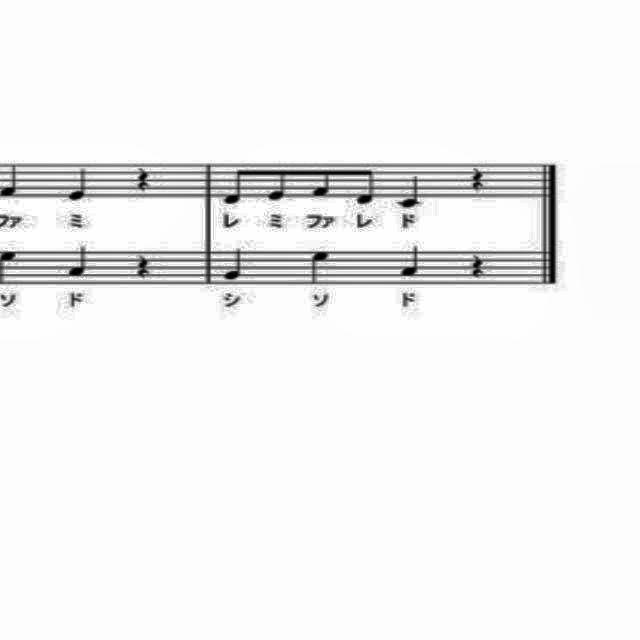Eighth-note: (218, 156, 250, 210), (260, 162, 292, 205), (306, 160, 338, 202), (352, 162, 380, 208)
Quarter-note: (396, 168, 426, 212), (0, 158, 28, 202), (393, 244, 423, 280), (308, 248, 334, 288), (67, 245, 93, 283), (222, 244, 246, 284), (66, 164, 90, 204)
Quarter-rest: (468, 252, 492, 282), (133, 164, 157, 192), (135, 252, 157, 280), (469, 162, 486, 192)
